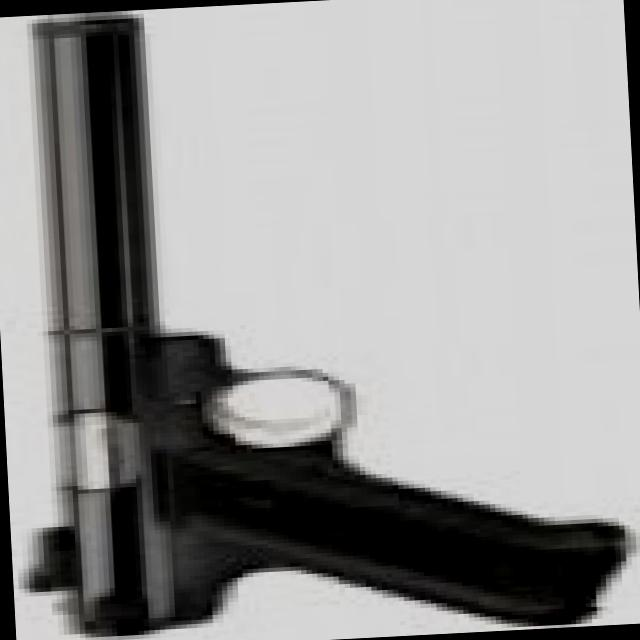handgun: (0, 2, 613, 637)
